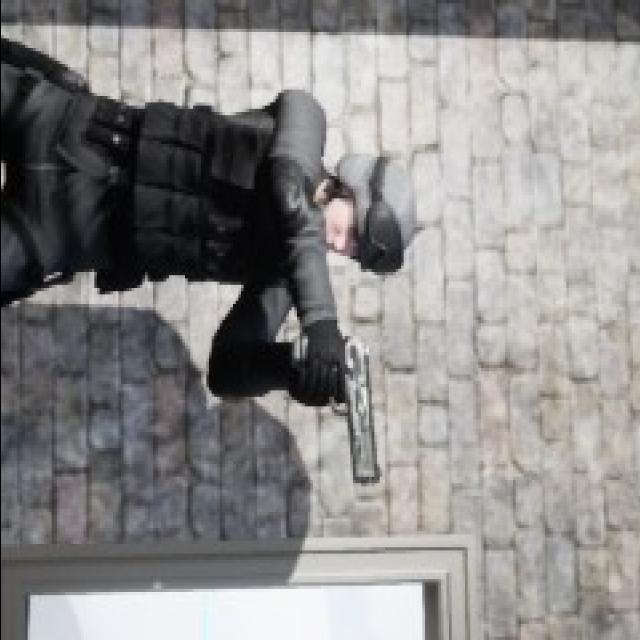pistol: (291, 327, 381, 493)
